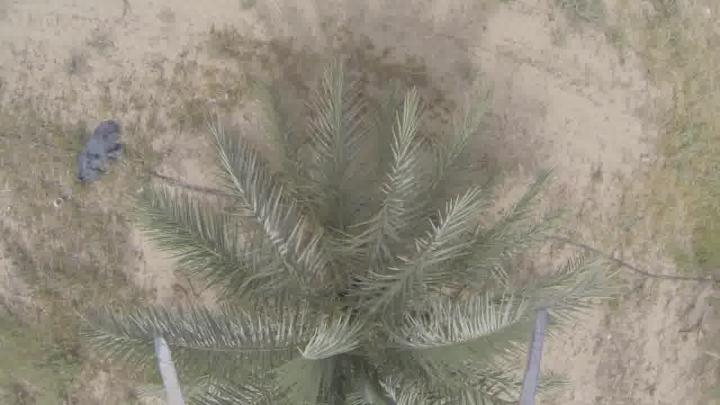Date-Palm-Crown: (162, 160, 498, 404)
